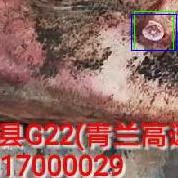text: (134, 11, 173, 50)
